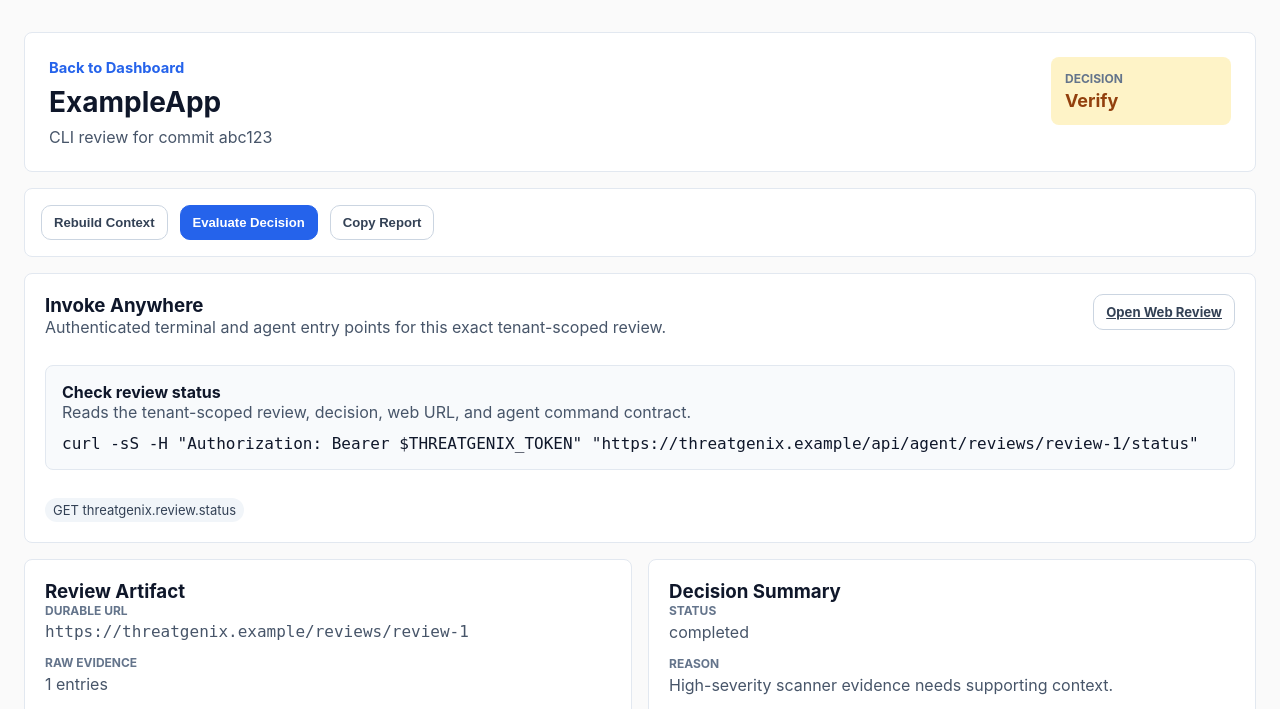
Test case: ApplicationReviewPage › copies the customer-ready report markdown when the browser exposes clipboard
Click the button "Copy Report" at coordinates (382, 222), box [330,205,434,240]
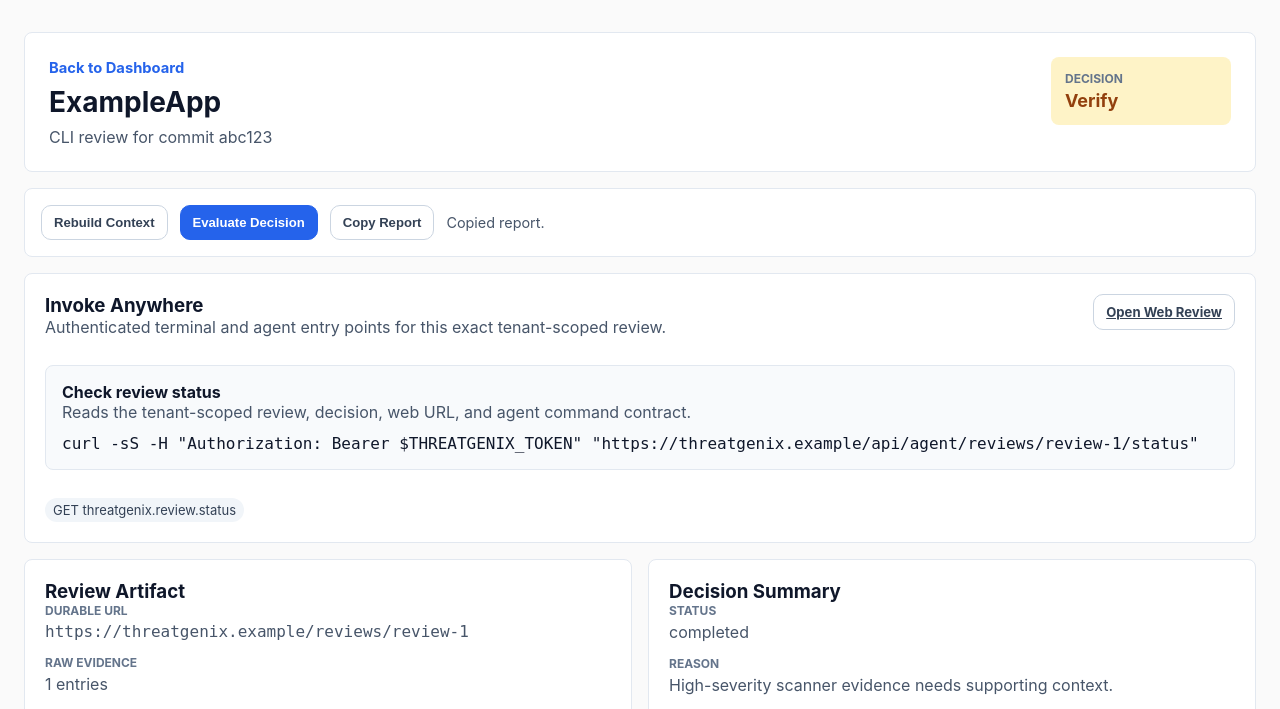
Expected: the text "Copied report." is shown, [446,214,545,231]
